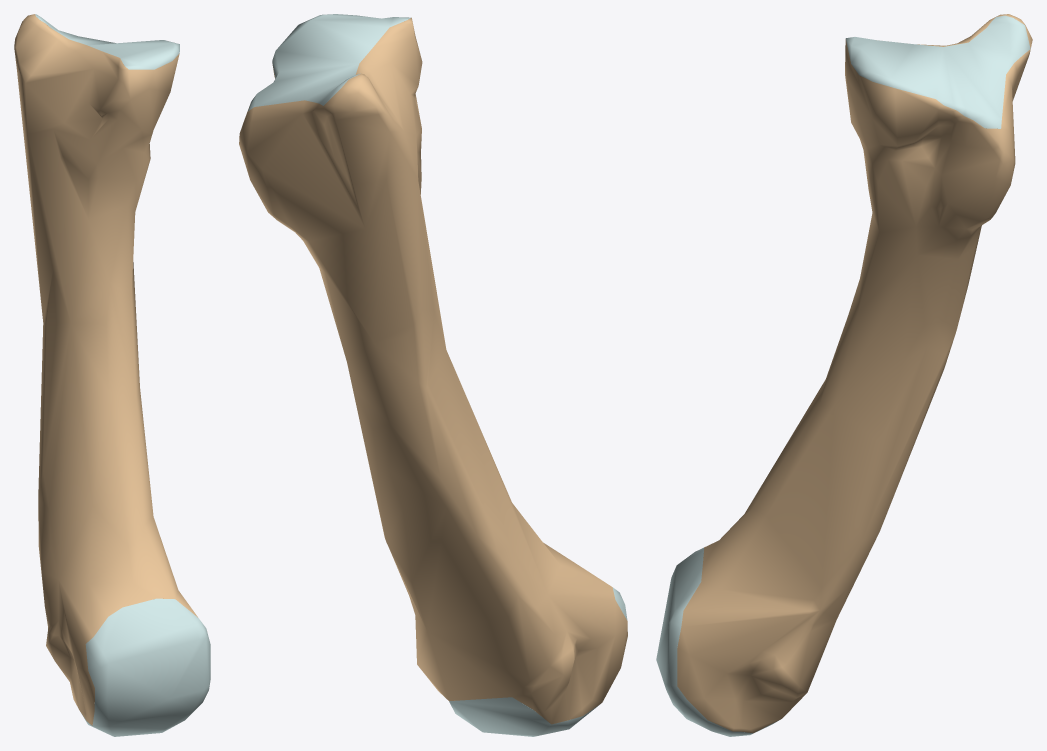
Rendered from 3d_metacarpal_bone.r_Generated_Mesh_From_X3D.740.glb.
3 renders of one model, left to right at view 1: azimuth 30°, elevation 25°; view 2: azimuth 150°, elevation 25°; view 3: azimuth 270°, elevation 25°, orthographic. The views are drawn at different scales.
Parts seen in each view (by area): view 1: 3d_metacarpal_bone.r_Generated_Mesh_From_X3D.740; view 2: 3d_metacarpal_bone.r_Generated_Mesh_From_X3D.740; view 3: 3d_metacarpal_bone.r_Generated_Mesh_From_X3D.740.
Part boxes in pixels (x1,y1,x2,y2): 3d_metacarpal_bone.r_Generated_Mesh_From_X3D.740: (14, 14, 210, 736); 3d_metacarpal_bone.r_Generated_Mesh_From_X3D.740: (239, 14, 627, 736); 3d_metacarpal_bone.r_Generated_Mesh_From_X3D.740: (656, 14, 1032, 736).
Size of the model in its own units: 0.0208 by 0.0667 by 0.0317.
